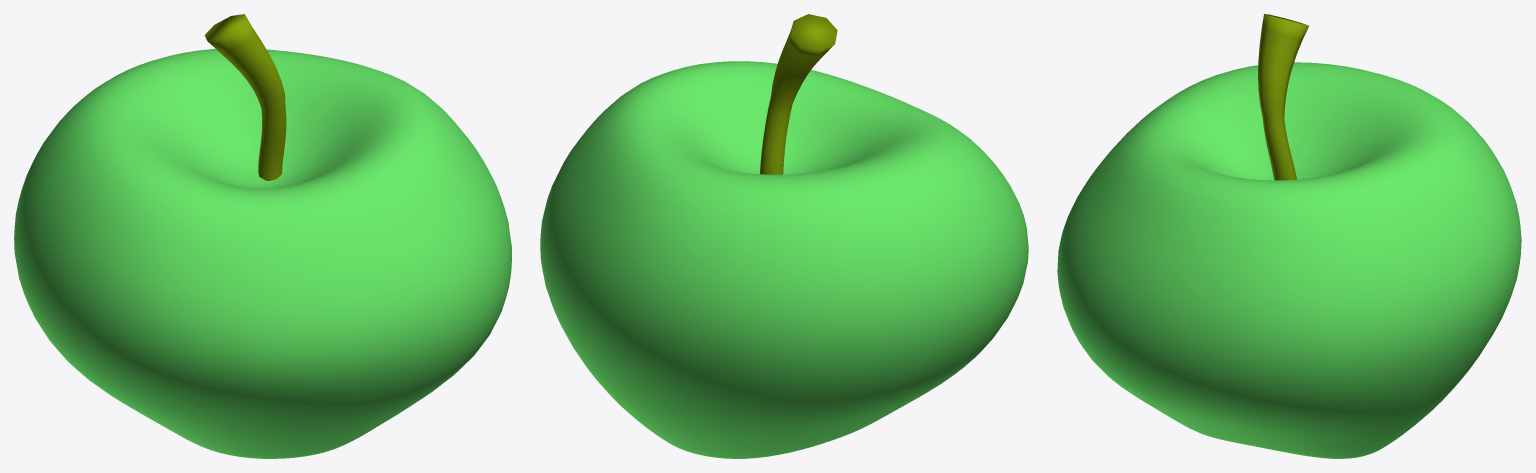
Rendered from apple02.glb.
3 views of the same model, side by side, from view 1: azimuth 30°, elevation 25°; view 2: azimuth 150°, elevation 25°; view 3: azimuth 270°, elevation 25° (orthographic). The views are drawn at different scales.
Visible parts, largest first — view 1: apple_body, apple_stem; view 2: apple_body, apple_stem; view 3: apple_body, apple_stem.
Part boxes in pixels (x1,y1,x2,y2): apple_body: (14,49,511,458); apple_stem: (204,14,286,180); apple_body: (540,61,1028,458); apple_stem: (760,14,837,174); apple_body: (1057,62,1521,458); apple_stem: (1258,14,1308,180).
Bounding box in the file's own units: 1.15 × 1.05 × 1.12.
